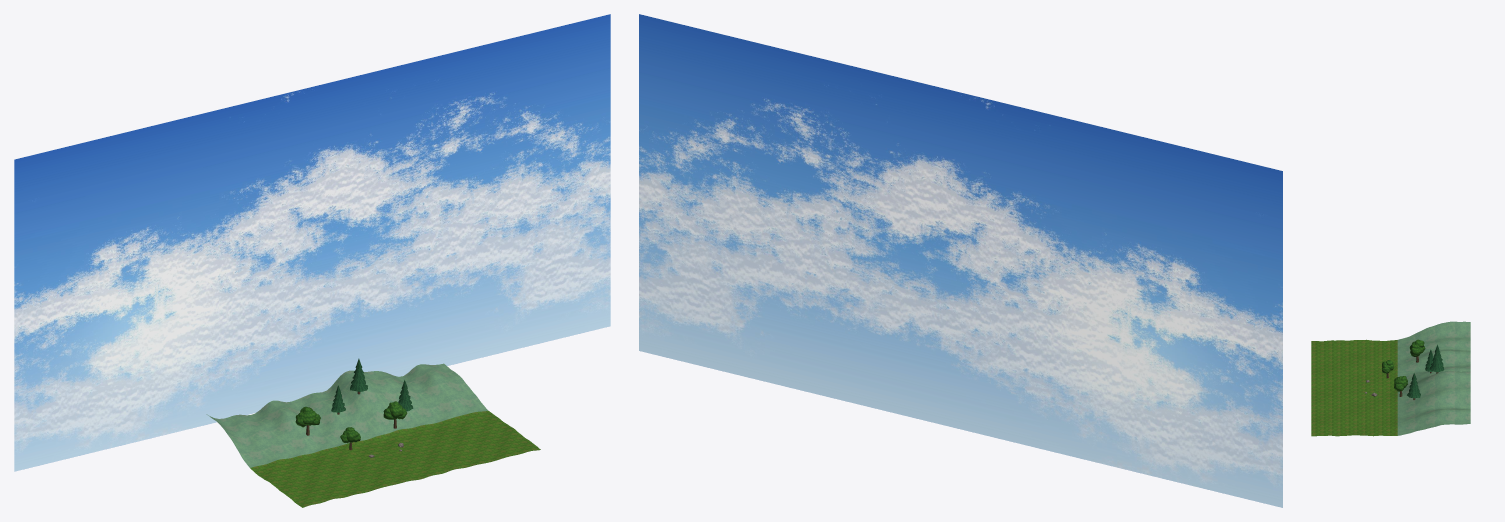
Rendered from PROP_BG_SKY.glb.
The picture shows the model from 3 angles, left to right: view 1: azimuth 30°, elevation 25°; view 2: azimuth 150°, elevation 25°; view 3: azimuth 270°, elevation 25°; orthographic projection. The views are drawn at different scales.
Parts seen in each view (by area): view 1: PROP_BG_SKY_2, PROP_BG_SKY_0, PROP_BG_SKY_1; view 2: PROP_BG_SKY_2; view 3: PROP_BG_SKY_0, PROP_BG_SKY_1.
Part boxes in pixels (left/top/right/bottom): PROP_BG_SKY_2: left=14, top=14, right=610, bottom=471; PROP_BG_SKY_0: left=250, top=410, right=540, bottom=507; PROP_BG_SKY_1: left=206, top=363, right=487, bottom=467; PROP_BG_SKY_2: left=639, top=14, right=1282, bottom=507; PROP_BG_SKY_0: left=1311, top=339, right=1397, bottom=436; PROP_BG_SKY_1: left=1397, top=321, right=1470, bottom=435.
Bounding box in the file's own units: 170 × 85.3 × 54.
Materials: 7 (7 with a texture image).
